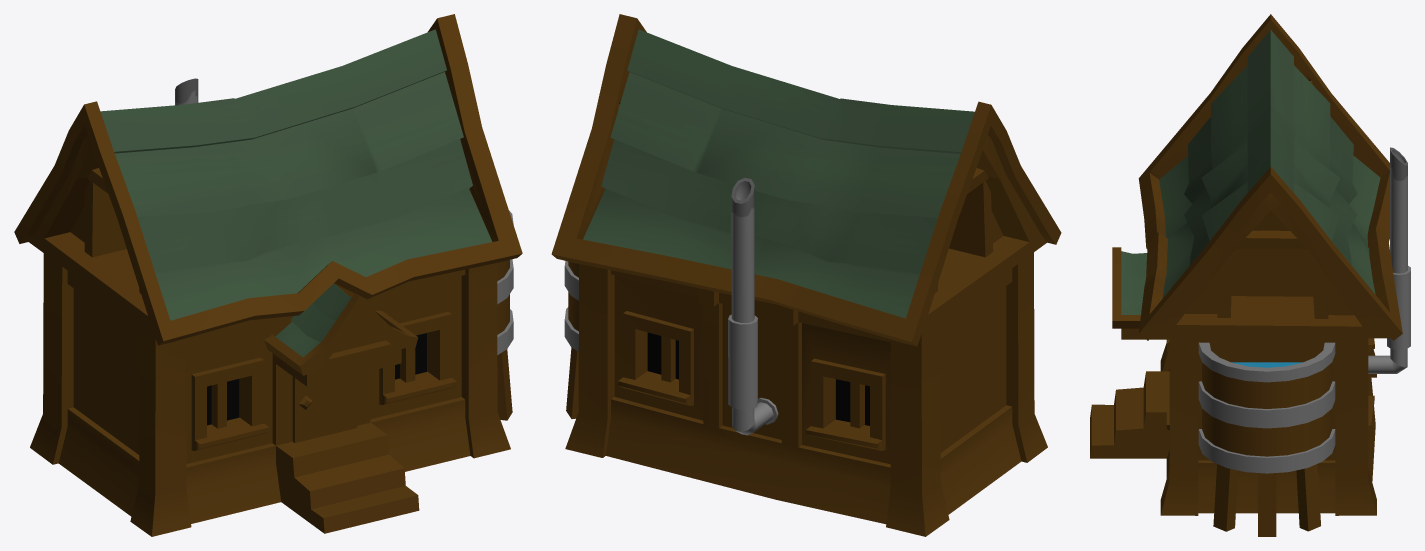
File: mod_vill_house_a.fbx
3 views of the same model, side by side, from view 1: azimuth 30°, elevation 25°; view 2: azimuth 150°, elevation 25°; view 3: azimuth 270°, elevation 25° (orthographic). The views are drawn at different scales.
Visible parts, largest first — view 1: mod_vill_house_a; view 2: mod_vill_house_a; view 3: mod_vill_house_a.
Boxes of the visible parts, left/top/right/bottom form: mod_vill_house_a: left=14, top=14, right=522, bottom=536; mod_vill_house_a: left=551, top=14, right=1061, bottom=536; mod_vill_house_a: left=1090, top=14, right=1410, bottom=536.
Bounding box in the file's own units: 13.87 × 12.33 × 10.43.
